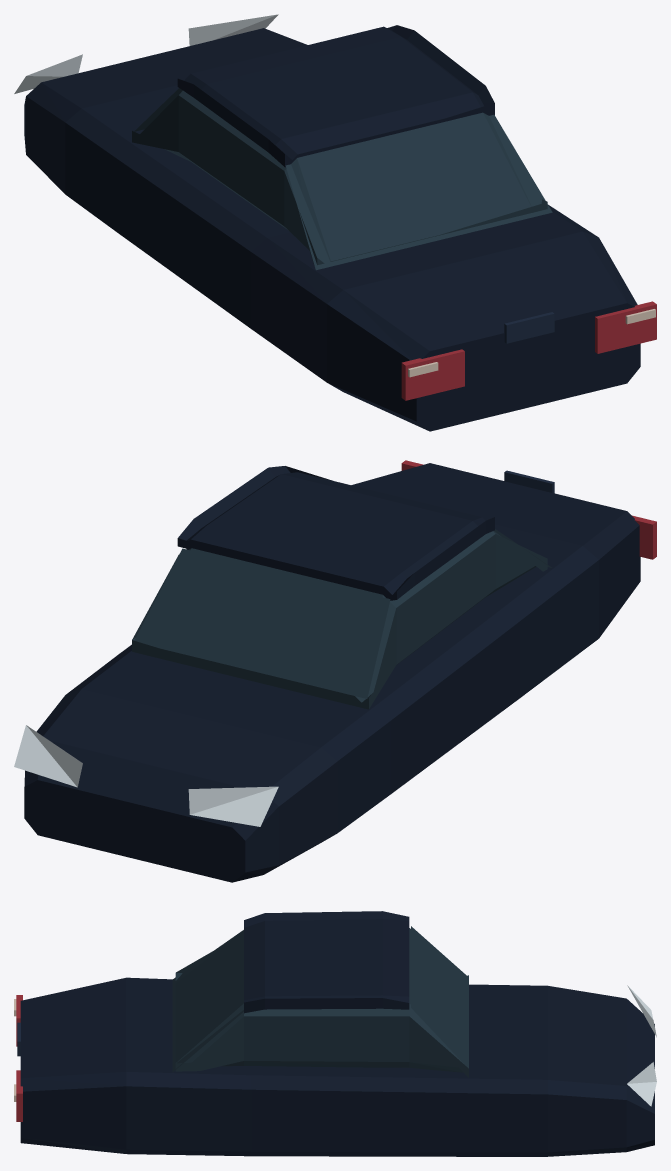
Rendered from granta_black_blue.obj.
The picture shows the model from 3 angles, top to bottom: view 1: azimuth 30°, elevation 25°; view 2: azimuth 150°, elevation 25°; view 3: azimuth 270°, elevation 25°; orthographic projection. The views are drawn at different scales.
Visible parts, largest first — view 1: BodyShellGranta_0, CabinGlazing_0, RoofGranta_0, BodyShellGranta_Lid_0, RearScreen_0, RearLamp2_Lid_0, FrontHeadlight2_0, RearLamp_Lid_0, RearLamp_0, BlankRearPlate_Lid_0, FrontHeadlight_0, RearLamp2_0; view 2: BodyShellGranta_0, RoofGranta_0, Windscreen_0, CabinGlazing_0, BodyShellGranta_Lid_0, FrontHeadlight_0, FrontHeadlight2_0, RearLamp_0, BlankRearPlate_Lid_0; view 3: BodyShellGranta_0, CabinGlazing_0, RoofGranta_0, BodyShellGranta_Lid_0, Windscreen_0, RearScreen_0, FrontHeadlight2_0.
Boxes of the visible parts, left/top/right/bottom form: BodyShellGranta_0: left=24, top=28, right=640, bottom=431; CabinGlazing_0: left=132, top=90, right=547, bottom=265; RoofGranta_0: left=177, top=25, right=494, bottom=167; BodyShellGranta_Lid_0: left=354, top=230, right=629, bottom=380; RearScreen_0: left=285, top=114, right=552, bottom=270; RearLamp2_Lid_0: left=595, top=308, right=631, bottom=351; FrontHeadlight2_0: left=188, top=14, right=278, bottom=45; RearLamp_Lid_0: left=428, top=349, right=464, bottom=391; RearLamp_0: left=401, top=357, right=464, bottom=400; BlankRearPlate_Lid_0: left=504, top=312, right=554, bottom=343; FrontHeadlight_0: left=14, top=54, right=82, bottom=93; RearLamp2_0: left=595, top=301, right=656, bottom=353; BodyShellGranta_0: left=24, top=465, right=640, bottom=882; RoofGranta_0: left=177, top=466, right=494, bottom=600; Windscreen_0: left=134, top=548, right=390, bottom=698; CabinGlazing_0: left=132, top=531, right=547, bottom=709; BodyShellGranta_Lid_0: left=369, top=463, right=628, bottom=547; FrontHeadlight_0: left=188, top=786, right=278, bottom=826; FrontHeadlight2_0: left=14, top=725, right=82, bottom=787; RearLamp_0: left=632, top=515, right=656, bottom=559; BlankRearPlate_Lid_0: left=504, top=470, right=554, bottom=493; BodyShellGranta_0: left=20, top=977, right=654, bottom=1156; CabinGlazing_0: left=175, top=928, right=468, bottom=1077; RoofGranta_0: left=244, top=911, right=409, bottom=1013; BodyShellGranta_Lid_0: left=20, top=985, right=139, bottom=1080; Windscreen_0: left=411, top=926, right=468, bottom=1068; RearScreen_0: left=172, top=930, right=243, bottom=1071; FrontHeadlight2_0: left=627, top=1062, right=656, bottom=1106.
Size of the model in its own units: 1.7 by 1.15 by 4.32.
